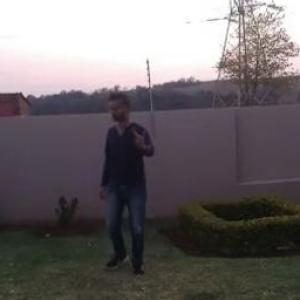takeoff-hand: (127, 123, 157, 155)
